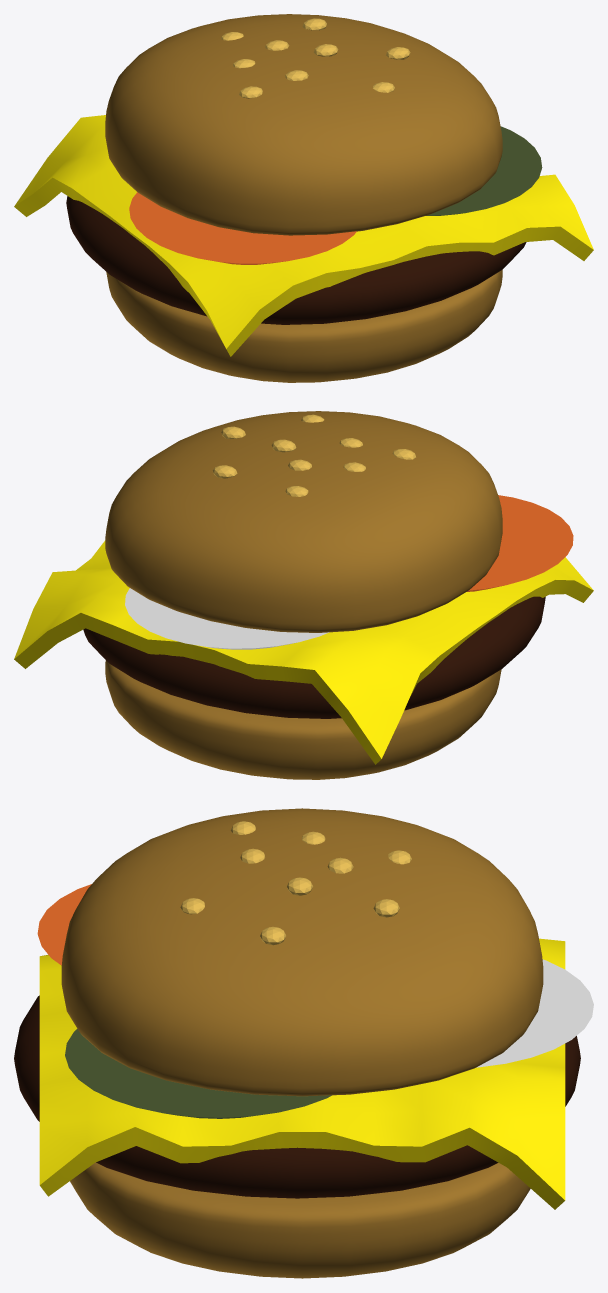
File: tsjHamburger.glb
The picture shows the model from 3 angles, top to bottom: view 1: azimuth 30°, elevation 25°; view 2: azimuth 150°, elevation 25°; view 3: azimuth 270°, elevation 25°; orthographic projection. The views are drawn at different scales.
Parts seen in each view (by area): view 1: Cube.001, Plane, Cube, Cube.002, Cone.001, Cone.002; view 2: Cube.001, Plane, Cube, Cube.002, Cone.001, Cone; view 3: Cube.001, Plane, Cube, Cube.002, Cone.002, Cone, Cone.001.
Part boxes in pixels (x1,y1,x2,y2): Cube.001: (105, 14, 502, 235); Plane: (14, 115, 593, 356); Cube: (106, 270, 502, 382); Cube.002: (66, 196, 526, 324); Cone.001: (129, 192, 356, 264); Cone.002: (426, 126, 542, 215); Cube.001: (105, 411, 502, 632); Plane: (14, 540, 593, 764); Cube: (105, 660, 501, 779); Cube.002: (83, 596, 545, 718); Cone.001: (467, 495, 573, 591); Cone: (125, 588, 328, 649); Cube.001: (61, 808, 543, 1096); Plane: (39, 938, 565, 1209); Cube: (70, 1162, 530, 1278); Cube.002: (14, 995, 580, 1198); Cone.002: (65, 1029, 331, 1118); Cone: (476, 959, 593, 1067); Cone.001: (37, 884, 91, 965).
Bounding box in the file's own units: 2.16 × 1.48 × 2.21.
